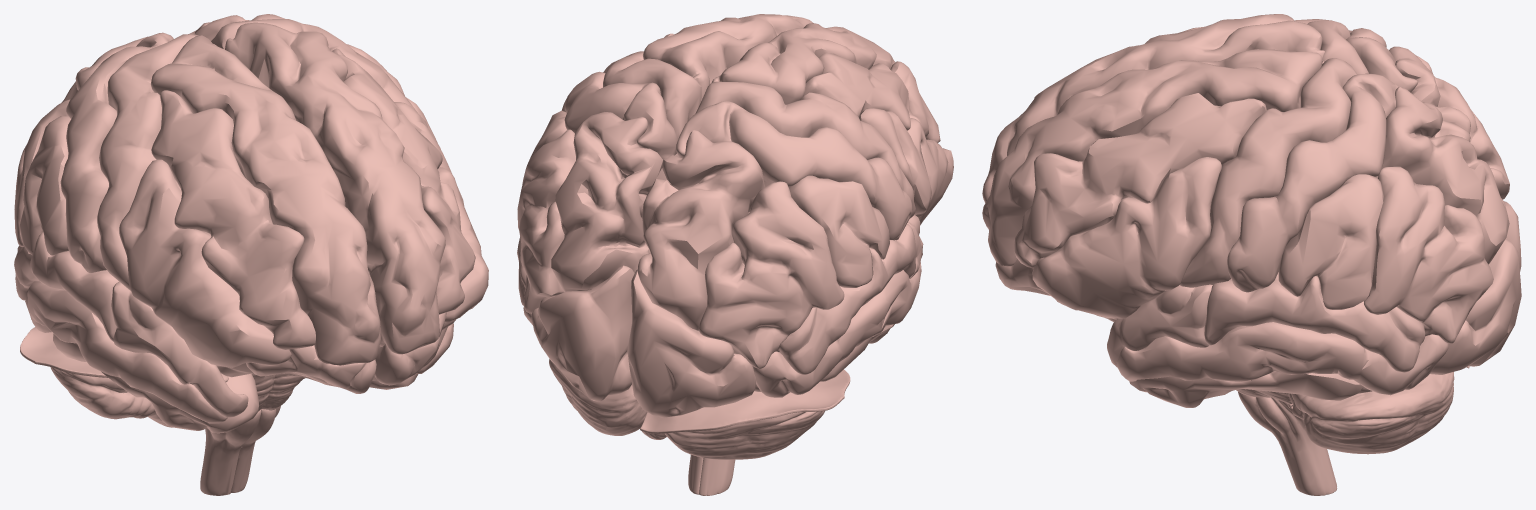
Rendered from nervous_central.head.glb.
The picture shows the model from 3 angles, left to right: view 1: azimuth 30°, elevation 25°; view 2: azimuth 150°, elevation 25°; view 3: azimuth 270°, elevation 25°; orthographic projection. The views are drawn at different scales.
Parts seen in each view (by area): view 1: right_superior_frontal_gyrus_bp3d, left_superior_frontal_gyrus_bp3d, right_middle_frontal_gyrus_bp3d, right_inferior_frontal_gyrus, right_precentral_gyrus, right_postcentral_gyrus_bp3d, right_middle_temporal_gyrus_bp3d, left_middle_frontal_gyrus_bp3d, anterior_part_of_right_superior_temporal_gyrus, orbital_gyrus, right_supramarginal_gyrus_bp3d, posterior_part_of_right_superior_temporal_gyrus (+10 smaller); view 2: right_angular_gyrus_bp3d, right_superior_parietal_lobule_bp3d, left_superior_parietal_lobule_bp3d, right_occipital_lobe, right_postcentral_gyrus_bp3d, left_occipital_lobe, cerebellum, right_superior_frontal_gyrus_bp3d, left_angular_gyrus_bp3d, right_supramarginal_gyrus_bp3d, right_precentral_gyrus, left_superior_frontal_gyrus_bp3d (+10 smaller); view 3: left_superior_frontal_gyrus_bp3d, left_middle_frontal_gyrus_bp3d, left_inferior_frontal_gyrus, left_angular_gyrus_bp3d, left_middle_temporal_gyrus_bp3d, left_postcentral_gyrus_bp3d, left_precentral_gyrus, right_superior_frontal_gyrus_bp3d, left_supramarginal_gyrus_bp3d, left_superior_parietal_lobule_bp3d, posterior_part_of_left_superior_temporal_gyrus, cerebellum (+8 smaller).
Boxes of the visible parts, left/top/right/bottom form: right_superior_frontal_gyrus_bp3d: left=151, top=35, right=380, bottom=365; left_superior_frontal_gyrus_bp3d: left=225, top=22, right=445, bottom=354; right_middle_frontal_gyrus_bp3d: left=151, top=90, right=315, bottom=349; right_inferior_frontal_gyrus: left=119, top=159, right=291, bottom=367; right_precentral_gyrus: left=97, top=34, right=198, bottom=290; right_postcentral_gyrus_bp3d: left=60, top=32, right=173, bottom=272; right_middle_temporal_gyrus_bp3d: left=25, top=281, right=227, bottom=423; left_middle_frontal_gyrus_bp3d: left=332, top=48, right=475, bottom=314; anterior_part_of_right_superior_temporal_gyrus: left=111, top=281, right=248, bottom=417; orbital_gyrus: left=216, top=312, right=456, bottom=393; right_supramarginal_gyrus_bp3d: left=20, top=116, right=71, bottom=255; posterior_part_of_right_superior_temporal_gyrus: left=14, top=232, right=118, bottom=341; right_angular_gyrus_bp3d: left=698, top=181, right=844, bottom=368; right_superior_parietal_lobule_bp3d: left=638, top=130, right=765, bottom=330; left_superior_parietal_lobule_bp3d: left=551, top=112, right=662, bottom=291; right_occipital_lobe: left=627, top=269, right=755, bottom=417; right_postcentral_gyrus_bp3d: left=676, top=101, right=912, bottom=240; left_occipital_lobe: left=531, top=265, right=634, bottom=401; cerebellum: left=549, top=359, right=824, bottom=459; right_superior_frontal_gyrus_bp3d: left=712, top=23, right=895, bottom=104; left_angular_gyrus_bp3d: left=517, top=129, right=575, bottom=313; right_supramarginal_gyrus_bp3d: left=789, top=175, right=889, bottom=287; right_precentral_gyrus: left=695, top=81, right=915, bottom=218; left_superior_frontal_gyrus_bp3d: left=643, top=14, right=812, bottom=101; left_superior_frontal_gyrus_bp3d: left=982, top=49, right=1323, bottom=266; left_middle_frontal_gyrus_bp3d: left=1014, top=93, right=1266, bottom=267; left_inferior_frontal_gyrus: left=1032, top=157, right=1221, bottom=318; left_angular_gyrus_bp3d: left=1364, top=166, right=1493, bottom=343; left_middle_temporal_gyrus_bp3d: left=1116, top=322, right=1448, bottom=395; left_postcentral_gyrus_bp3d: left=1227, top=73, right=1398, bottom=292; left_precentral_gyrus: left=1180, top=58, right=1357, bottom=287; right_superior_frontal_gyrus_bp3d: left=982, top=14, right=1324, bottom=202; left_supramarginal_gyrus_bp3d: left=1278, top=174, right=1384, bottom=309; left_superior_parietal_lobule_bp3d: left=1375, top=87, right=1509, bottom=264; posterior_part_of_left_superior_temporal_gyrus: left=1204, top=272, right=1425, bottom=372; cerebellum: left=1289, top=372, right=1454, bottom=454.
Size of the model in its own units: 0.1408 by 0.166 by 0.18.
